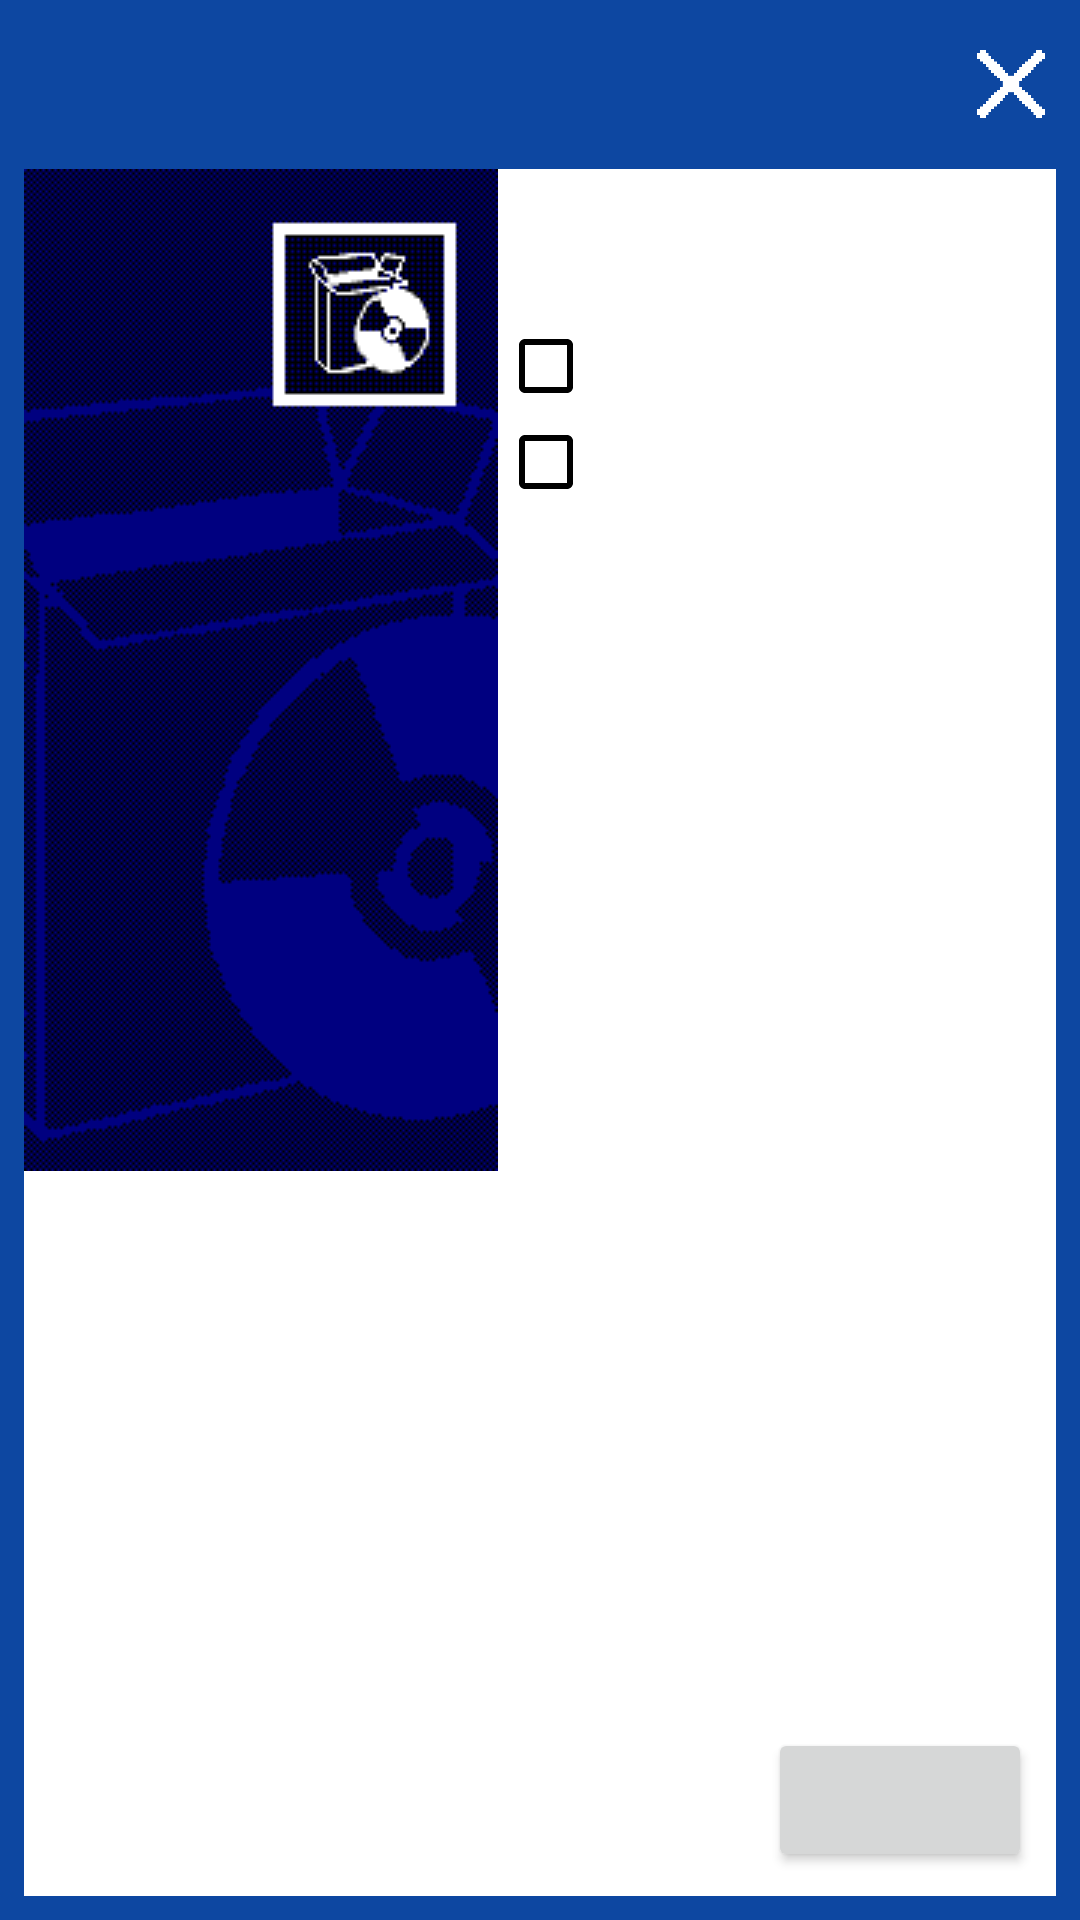

Where to tap for icons on this 1080x1920 app screen, as [x,y]:
close: [1011,84]
